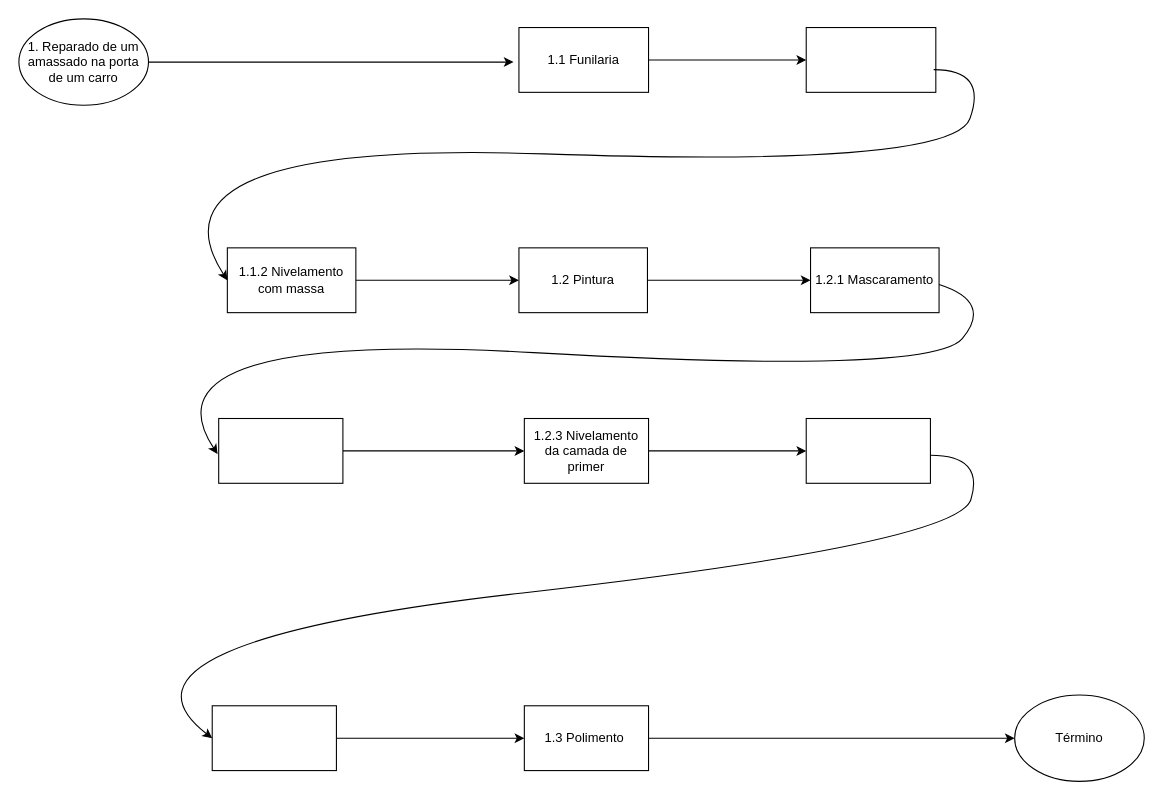
Image size: 1163x800. Some labels were removed from this diagram. The centre of each missing label's shape, as x and y in pixels:
1.1.1 Nivelamento com spotter: (870,59)
1.2.2 Aplicação de primer: (280,450)
1.2.4 Aplicação da tinta: (867,450)
1.2.5 Aplicação do verniz: (273,738)
